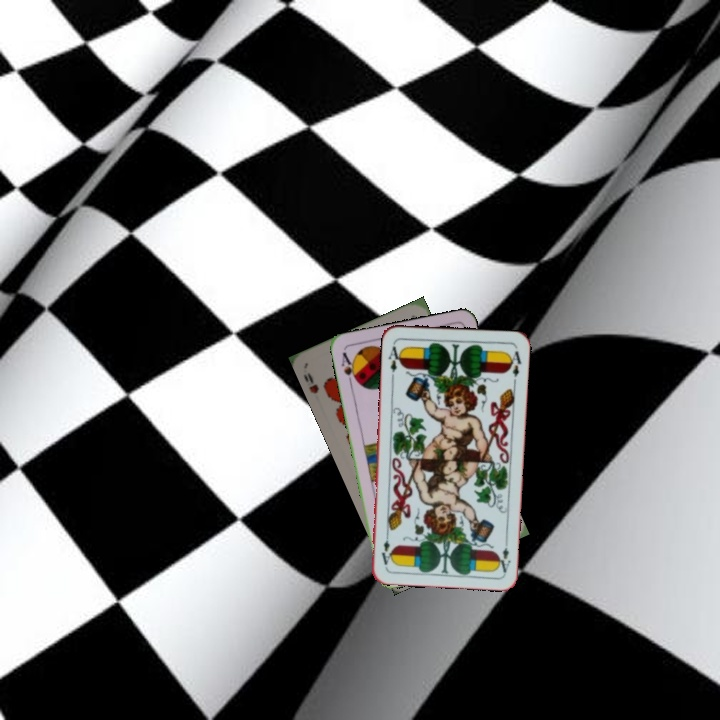EA: (384, 339, 404, 380), (494, 534, 513, 575)
H9: (299, 368, 321, 396)
SA: (337, 348, 361, 388)
